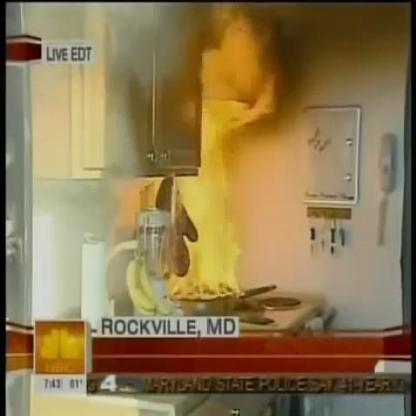fire: (155, 4, 278, 298)
